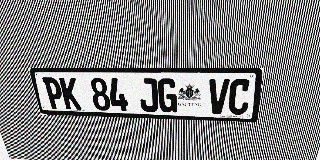4: (107, 78, 128, 111)
8: (89, 78, 111, 111)
C: (227, 79, 252, 115)
G: (158, 78, 177, 113)
J: (138, 78, 158, 112)
K: (59, 77, 82, 110)
P: (42, 77, 65, 109)
V: (208, 79, 230, 114)
